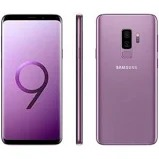samsung: (94, 13, 156, 147), (1, 12, 62, 146)
